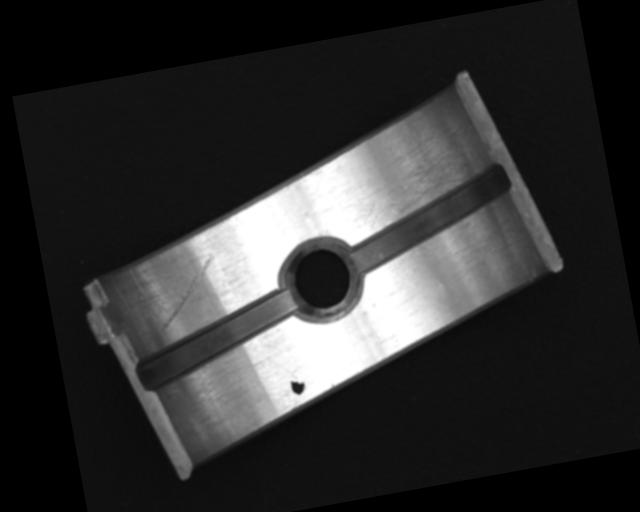blot: (288, 373, 306, 397)
gap: (338, 162, 519, 277), (125, 284, 305, 392)
hole: (276, 232, 366, 329)
nick: (148, 252, 224, 332)
scratch: (337, 124, 491, 234)
